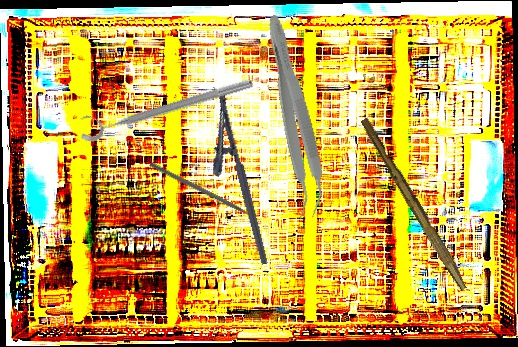Chopper: (146, 161, 261, 228)
Fixation Ring: (74, 64, 256, 145)
Needle Holder: (194, 89, 269, 271)
Scalpel Handle: (356, 116, 473, 292)
Tissue Forceps: (252, 12, 334, 221)
